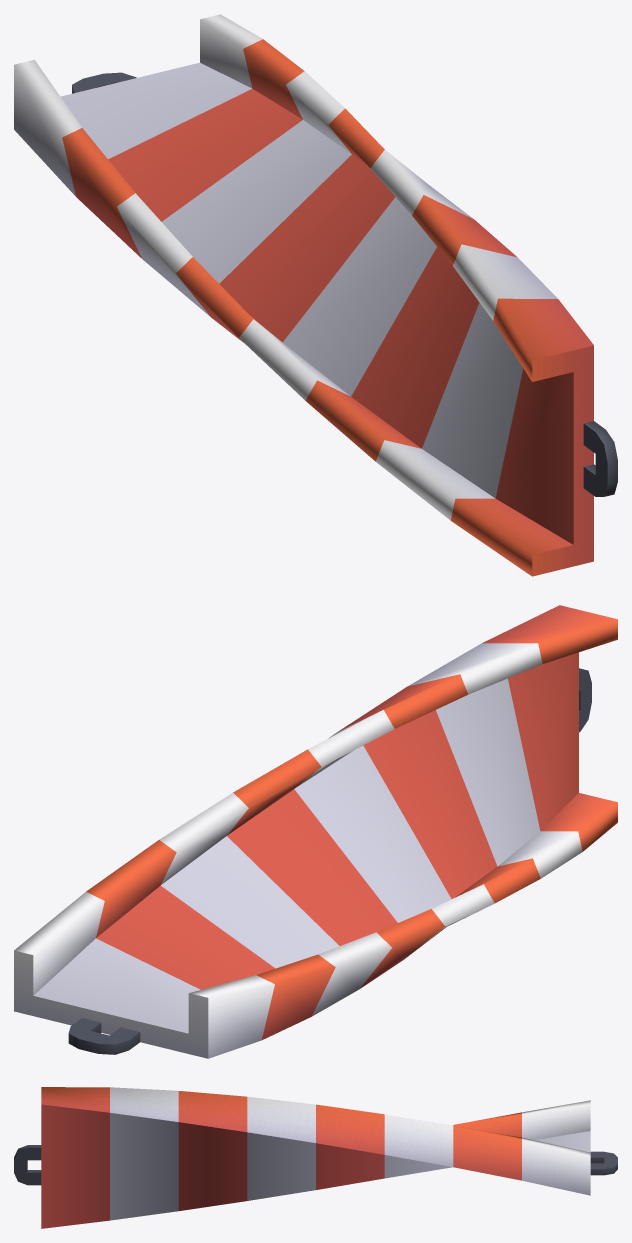
File: track-striped-narrow-straight-skew-right-side.glb
The picture shows the model from 3 angles, top to bottom: view 1: azimuth 30°, elevation 25°; view 2: azimuth 150°, elevation 25°; view 3: azimuth 270°, elevation 25°; orthographic projection. The views are drawn at different scales.
Visible parts, largest first — view 1: track-striped-narrow-straight-skew-right-side; view 2: track-striped-narrow-straight-skew-right-side; view 3: track-striped-narrow-straight-skew-right-side.
Part boxes in pixels (<box>): track-striped-narrow-straight-skew-right-side: <box>14,14,617,576</box>; track-striped-narrow-straight-skew-right-side: <box>14,605,617,1058</box>; track-striped-narrow-straight-skew-right-side: <box>14,1087,617,1228</box>.
Bounding box in the file's own units: 3.25 × 3.25 × 13.2.
1 material, 1 textured.
